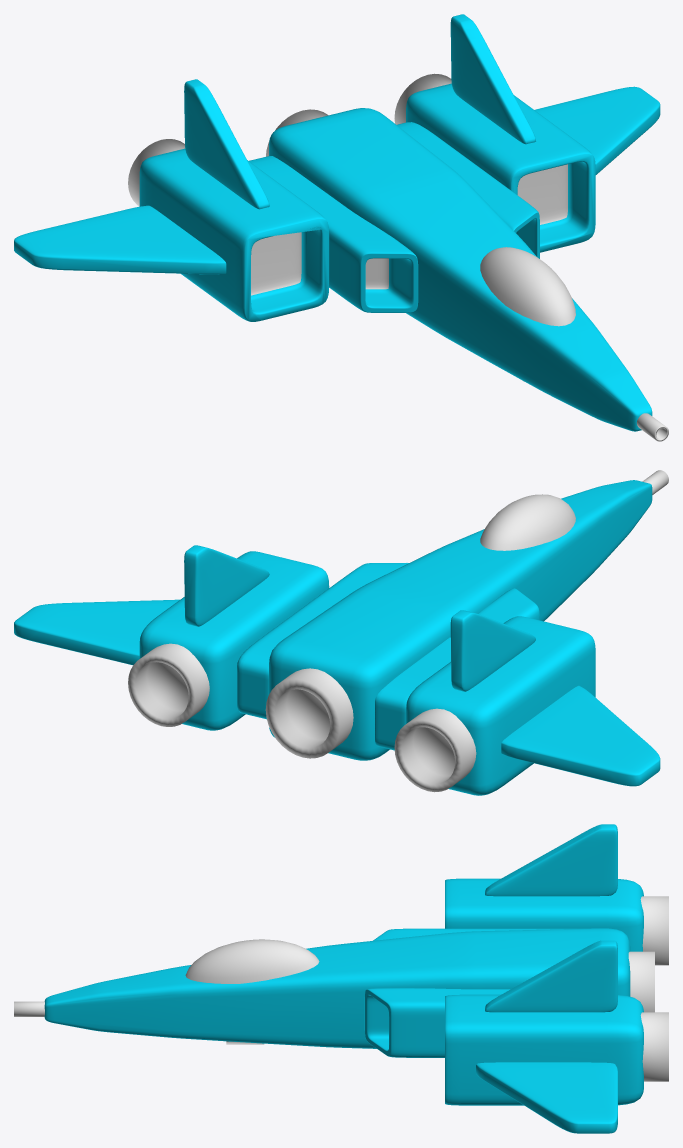
File: z7interceptor.fbx
3 views of the same model, one above another, from view 1: azimuth 30°, elevation 25°; view 2: azimuth 150°, elevation 25°; view 3: azimuth 270°, elevation 25° (orthographic). The views are drawn at different scales.
Parts seen in each view (by area): view 1: BODY, bigairthing, BackWing, airthing, TopWing, Glass, Engine2; view 2: BODY, bigairthing, BackWing, Engine2, airthing, TopWing, Engine, Glass; view 3: BODY, bigairthing, TopWing, BackWing, airthing, Glass, Engine2, Engine, Gun.
Boxes of the visible parts, bbox=[...] form: BODY: bbox=[269, 108, 652, 431]; bigairthing: bbox=[139, 83, 595, 321]; BackWing: bbox=[14, 86, 660, 274]; airthing: bbox=[249, 122, 539, 312]; TopWing: bbox=[184, 14, 535, 209]; Glass: bbox=[480, 247, 575, 326]; Engine2: bbox=[128, 73, 451, 206]; BODY: bbox=[269, 480, 652, 760]; bigairthing: bbox=[139, 551, 595, 795]; BackWing: bbox=[14, 599, 660, 786]; Engine2: bbox=[128, 643, 476, 792]; airthing: bbox=[237, 563, 539, 750]; TopWing: bbox=[184, 545, 535, 691]; Engine: bbox=[265, 668, 353, 758]; Glass: bbox=[480, 494, 575, 550]; BODY: bbox=[44, 928, 630, 1048]; bigairthing: bbox=[445, 878, 643, 1105]; TopWing: bbox=[485, 824, 617, 1012]; BackWing: bbox=[476, 1062, 617, 1133]; airthing: bbox=[364, 928, 576, 1057]; Glass: bbox=[185, 939, 319, 983]; Engine2: bbox=[640, 896, 668, 1081]; Engine: bbox=[628, 951, 654, 1012]; Gun: bbox=[14, 1001, 44, 1016].
Bounding box in the file's own units: 16.94 × 4.46 × 17.16.
